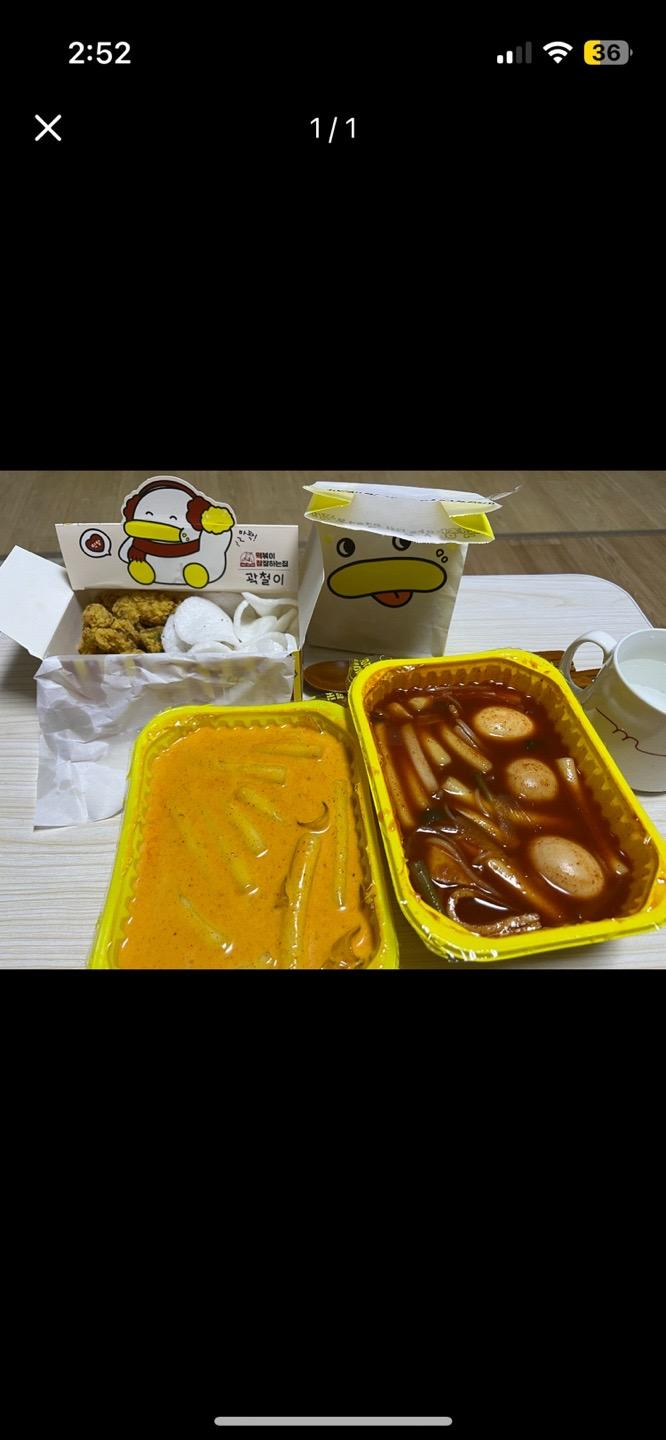Lunch Box: (0, 476, 319, 826), (348, 650, 665, 961), (90, 702, 396, 973), (304, 480, 500, 656)
cup: (560, 629, 665, 791)
